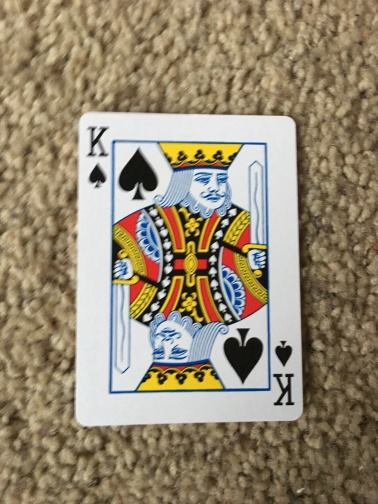king: (73, 110, 304, 426)
